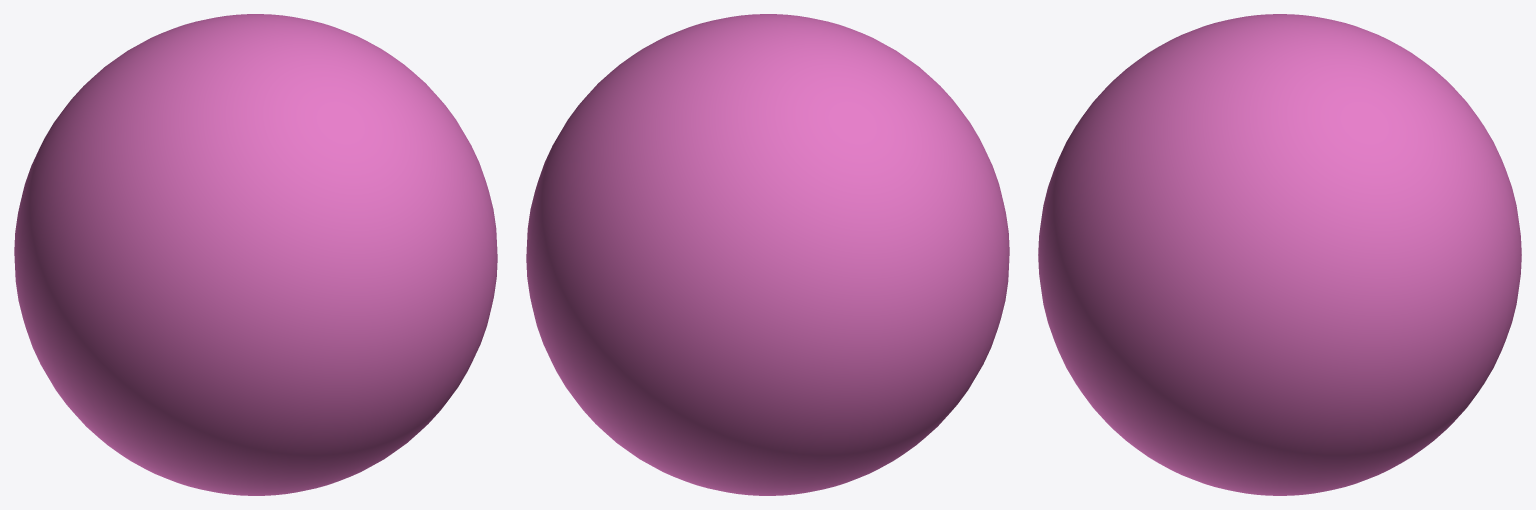
File: pelota.glb
3 views of the same model, side by side, from view 1: azimuth 30°, elevation 25°; view 2: azimuth 150°, elevation 25°; view 3: azimuth 270°, elevation 25° (orthographic).
Visible parts, largest first — view 1: Object_2; view 2: Object_2; view 3: Object_2.
Boxes of the visible parts, x1=… form: Object_2: x1=14, y1=14, x2=497, y2=495; Object_2: x1=526, y1=14, x2=1009, y2=495; Object_2: x1=1038, y1=14, x2=1521, y2=495.
Size of the model in its own units: 223 by 222 by 223.
